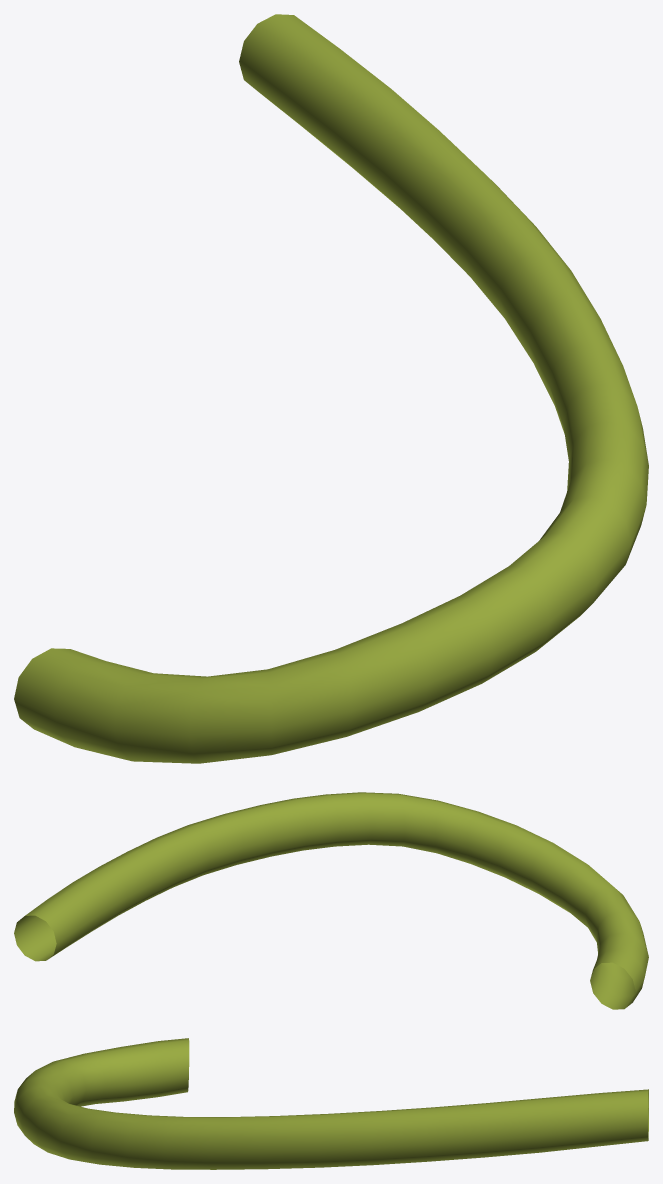
File: Tarot_Card_Cable.fbx
3 renders of one model, top to bottom at view 1: azimuth 30°, elevation 25°; view 2: azimuth 150°, elevation 25°; view 3: azimuth 270°, elevation 25°, orthographic. The views are drawn at different scales.
Visible parts, largest first — view 1: Tarot_Card_Cable; view 2: Tarot_Card_Cable; view 3: Tarot_Card_Cable.
Part boxes in pixels (box(x1,y1,x2,y2)): Tarot_Card_Cable: box(14, 14, 648, 763); Tarot_Card_Cable: box(14, 792, 648, 1009); Tarot_Card_Cable: box(14, 1038, 648, 1169).
Bounding box in the file's own units: 14.98 × 6.1 × 19.8.
